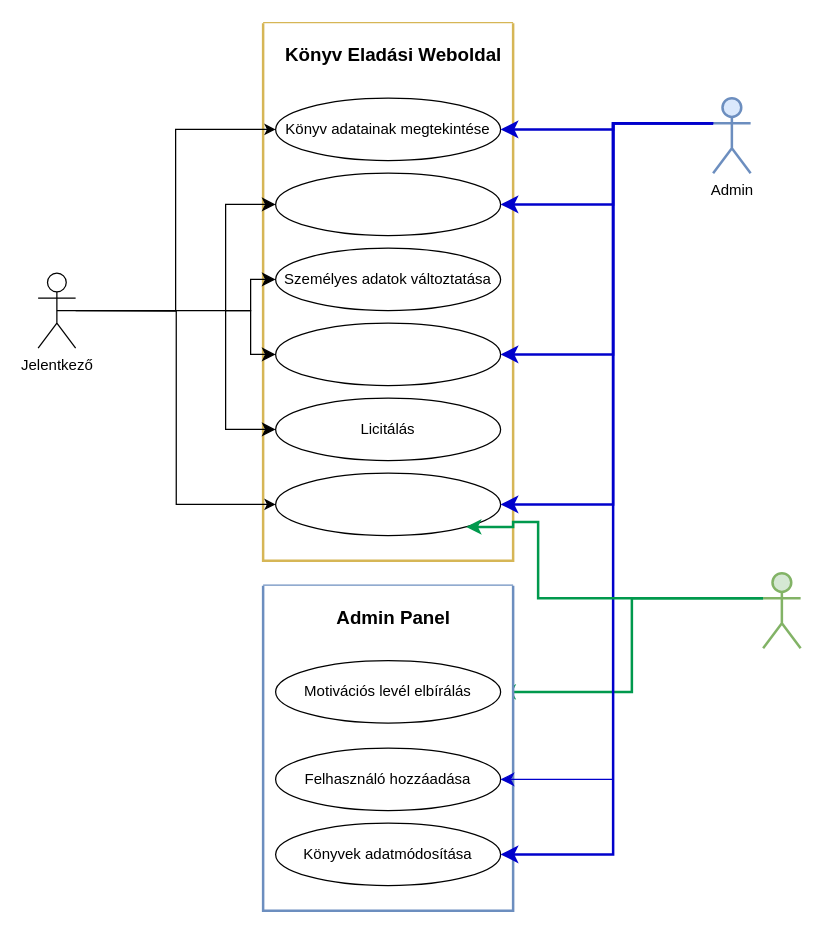
The diagram is 840 pixels wide and 933 high, and some of its shapes have lost their labels. The shapes that lost their labels are listed below. From the top down, each one's centre as x and y in pixels, then its label:
At pixel 387 204: "Motivációs levél beküldése".
At pixel 387 354: "Jelszó változtatás".
At pixel 387 504: "Licit állásának ellenőrzése".
At pixel 781 610: "Vizionárius".
